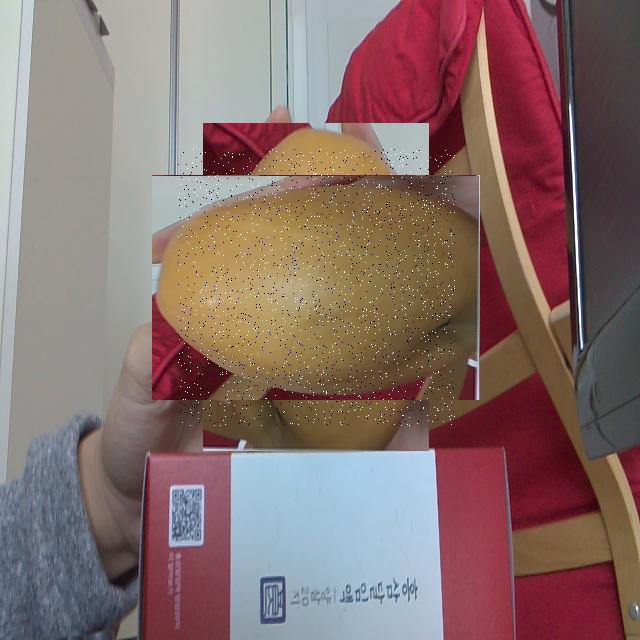pear: (178, 149, 455, 426)
